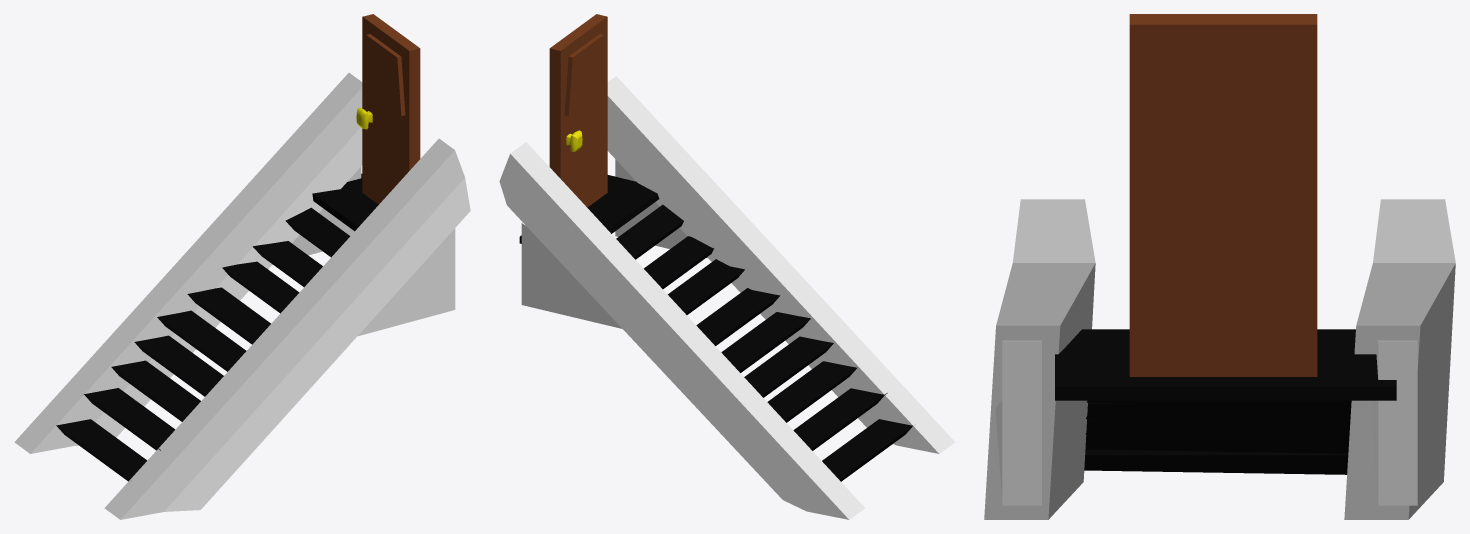
Rendered from door and stairs.glb.
The picture shows the model from 3 angles, left to right: view 1: azimuth 30°, elevation 25°; view 2: azimuth 150°, elevation 25°; view 3: azimuth 270°, elevation 25°; orthographic projection. The views are drawn at different scales.
Parts seen in each view (by area): view 1: Cube.034, Cube.043, Cube.045, Cube.035, Cube.033, Cube.036, Cube.037, Cube.038, Cube.039, Cube.040, Cube.044, Cube.041 (+1 smaller); view 2: Cube.043, Cube.034, Cube.045, Cube.035, Cube.033, Cube.036, Cube.037, Cube.038, Cube.044, Cube.039, Cube.040, Cube.041 (+1 smaller); view 3: Cube.045, Cube.034, Cube.043, Cube.044, Cube.033, Cube.037, Cube.036, Cube.035, Cube.038.
Boxes of the visible parts, <box> form: Cube.034: <box>104,138,470,519</box>; Cube.043: <box>14,73,362,453</box>; Cube.045: <box>362,14,420,204</box>; Cube.035: <box>84,388,175,450</box>; Cube.033: <box>56,419,147,481</box>; Cube.036: <box>111,360,200,421</box>; Cube.037: <box>134,335,223,396</box>; Cube.038: <box>157,310,246,371</box>; Cube.039: <box>187,287,270,344</box>; Cube.040: <box>222,261,299,313</box>; Cube.044: <box>312,173,378,231</box>; Cube.041: <box>253,241,322,286</box>; Cube.043: <box>499,142,864,519</box>; Cube.034: <box>521,76,955,453</box>; Cube.045: <box>549,14,607,207</box>; Cube.035: <box>793,388,887,450</box>; Cube.033: <box>822,419,912,481</box>; Cube.036: <box>767,361,857,422</box>; Cube.037: <box>744,336,833,397</box>; Cube.038: <box>721,312,810,372</box>; Cube.044: <box>519,175,659,243</box>; Cube.039: <box>696,288,780,345</box>; Cube.040: <box>668,259,744,314</box>; Cube.041: <box>644,236,714,288</box>; Cube.045: <box>1129,14,1317,376</box>; Cube.034: <box>984,199,1417,519</box>; Cube.043: <box>1344,199,1455,519</box>; Cube.044: <box>1055,329,1396,400</box>; Cube.033: <box>1084,449,1348,474</box>; Cube.037: <box>1086,402,1351,423</box>; Cube.036: <box>1085,419,1350,438</box>; Cube.035: <box>1085,434,1349,453</box>; Cube.038: <box>1086,400,1351,406</box>.
Size of the model in its own units: 11.78 by 12.11 by 6.95.
